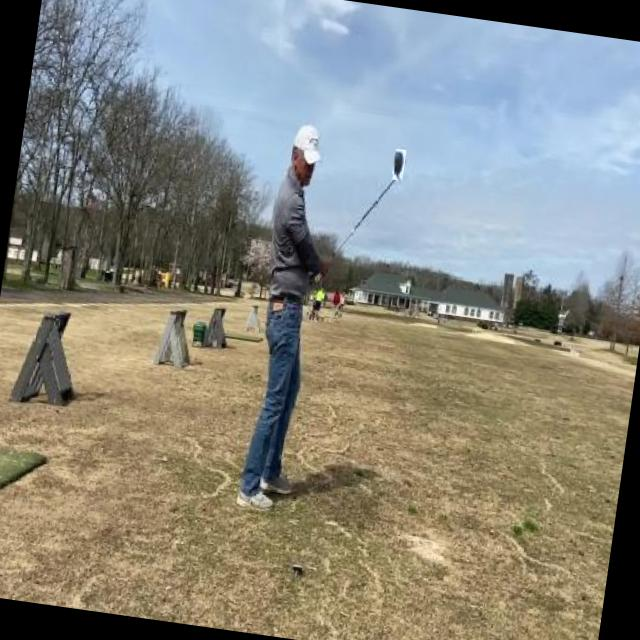club head: (392, 149, 407, 181)
